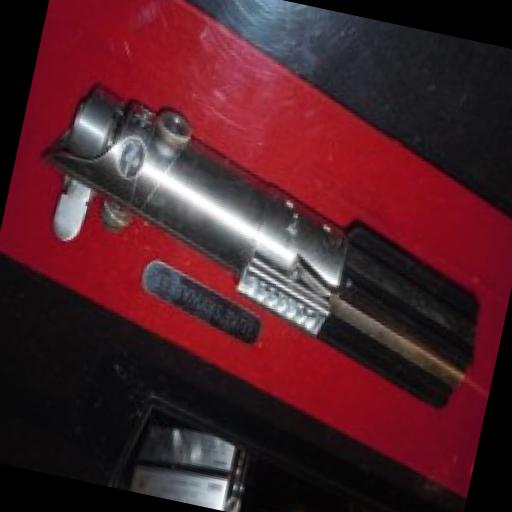lightsaber: (15, 82, 512, 420)
